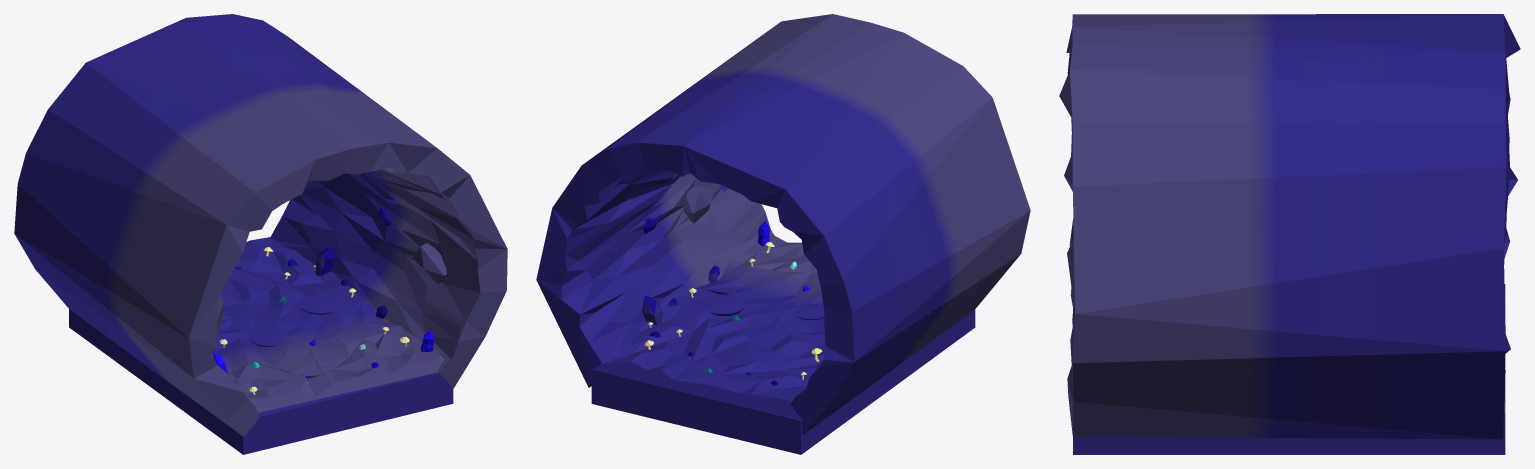
Rendered from MAP_ver3_ All Plus Final.fbx.
3 views of the same model, side by side, from view 1: azimuth 30°, elevation 25°; view 2: azimuth 150°, elevation 25°; view 3: azimuth 270°, elevation 25° (orthographic). The views are drawn at different scales.
Visible parts, largest first — view 1: Circle.006; view 2: Circle.006; view 3: Circle.006.
Part boxes in pixels (x1,y1,x2,y2): Circle.006: [14, 14, 507, 454]; Circle.006: [536, 14, 1030, 454]; Circle.006: [1059, 14, 1520, 454].
Bounding box in the file's own units: 2737 × 2351 × 2754.
